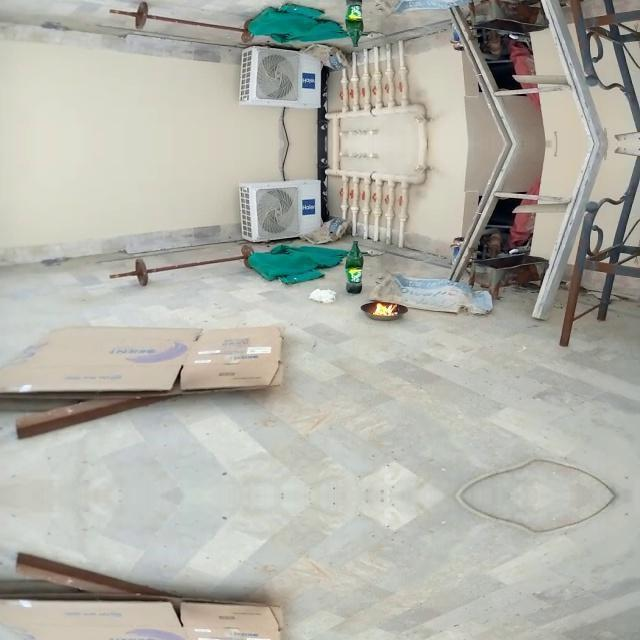smoke: (372, 300, 398, 316)
